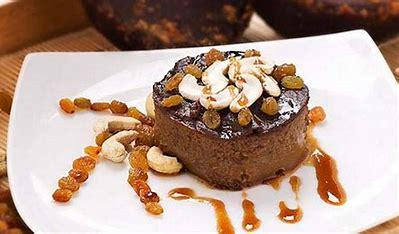Watalappam: (153, 31, 316, 202)
